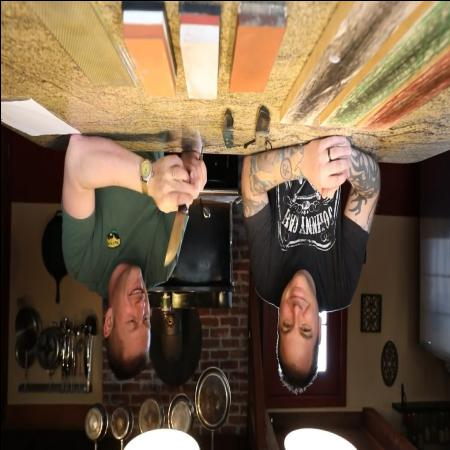long weapon: (158, 167, 204, 275)
